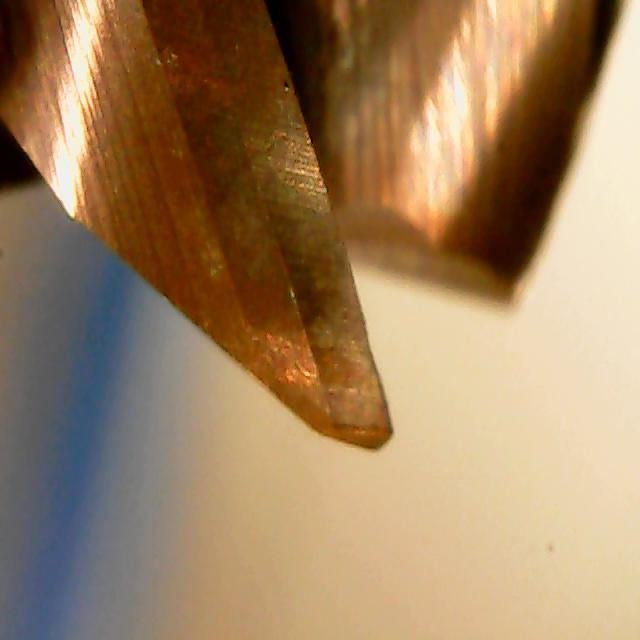Tool-wear-class-1: (235, 291, 420, 458)
